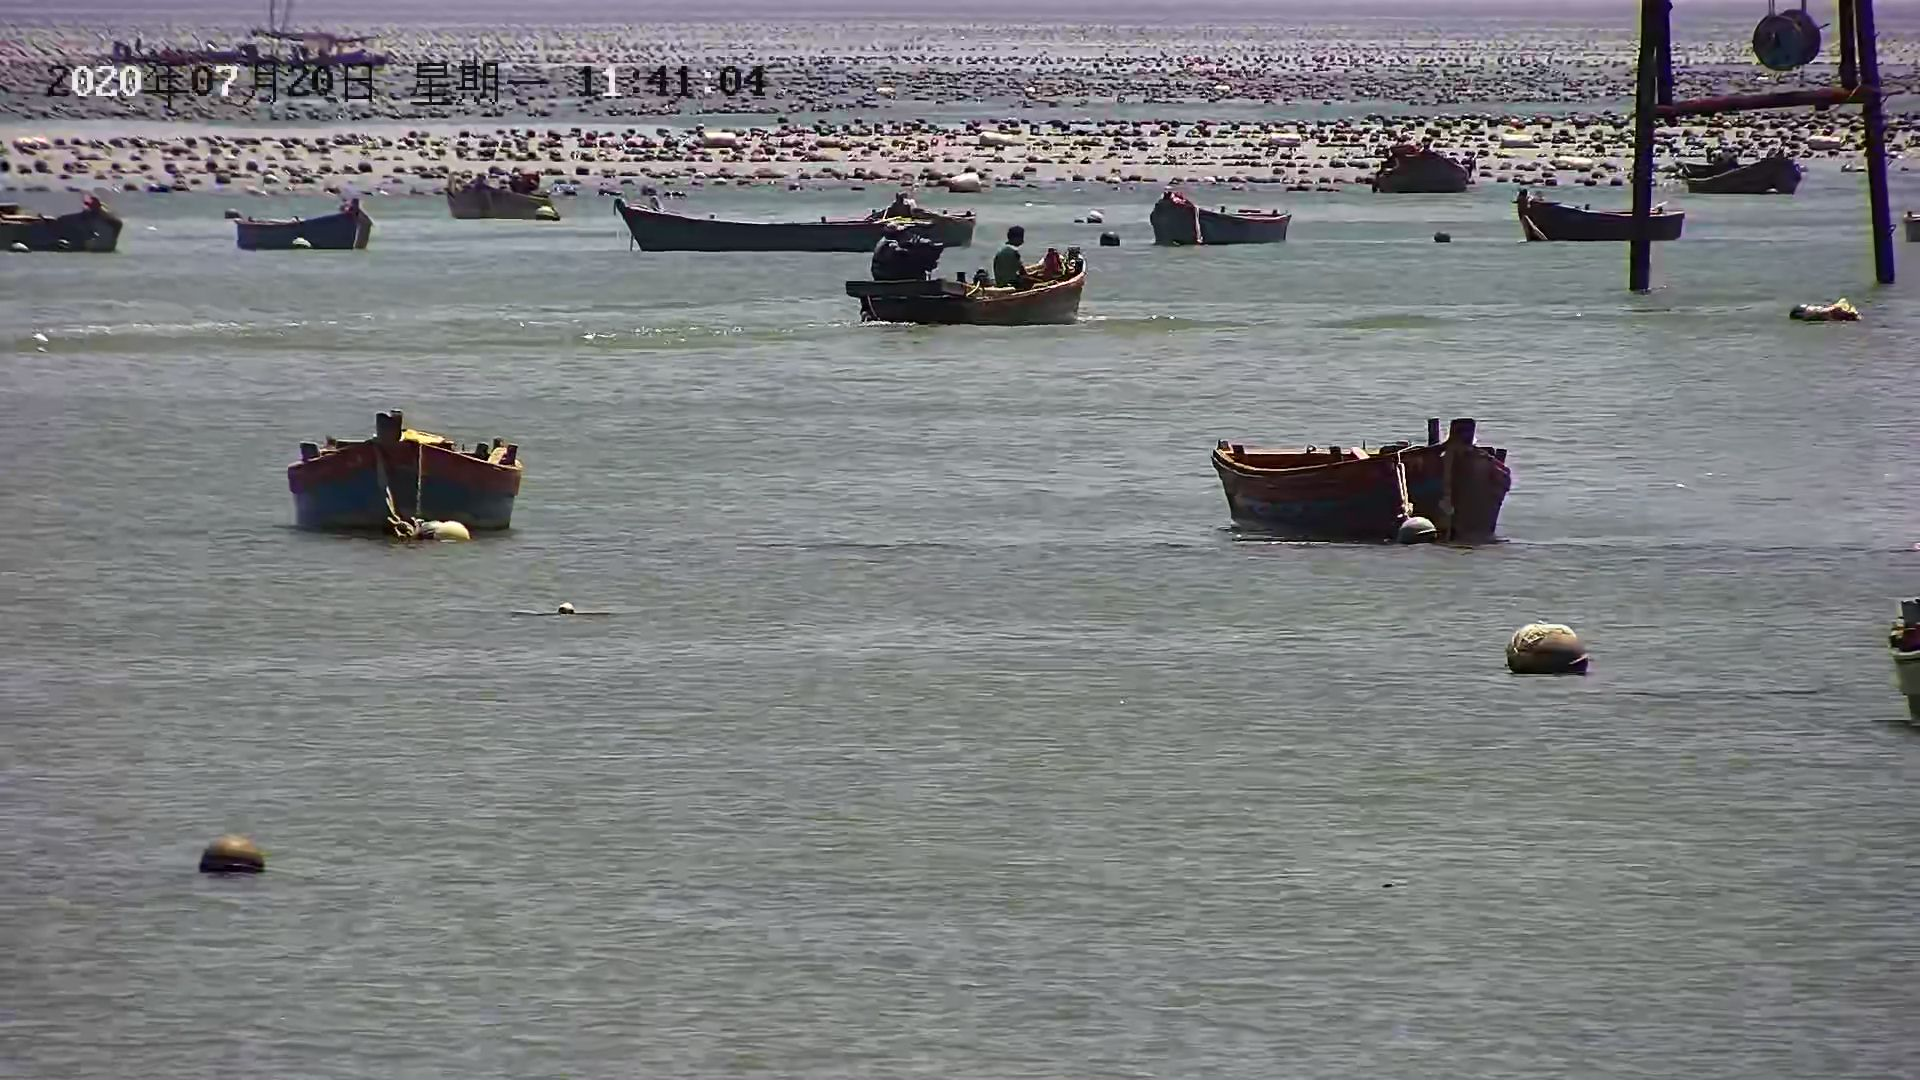ball: (1491, 618, 1604, 683), (191, 825, 266, 882)
boat: (1199, 427, 1532, 551), (258, 400, 538, 541), (618, 182, 975, 257), (855, 243, 1106, 328), (1137, 182, 1300, 245), (1505, 191, 1689, 243), (1, 193, 138, 257), (223, 198, 378, 253), (447, 165, 582, 227), (1362, 141, 1495, 195), (1684, 150, 1804, 200)
rubbish: (1791, 298, 1862, 324)
